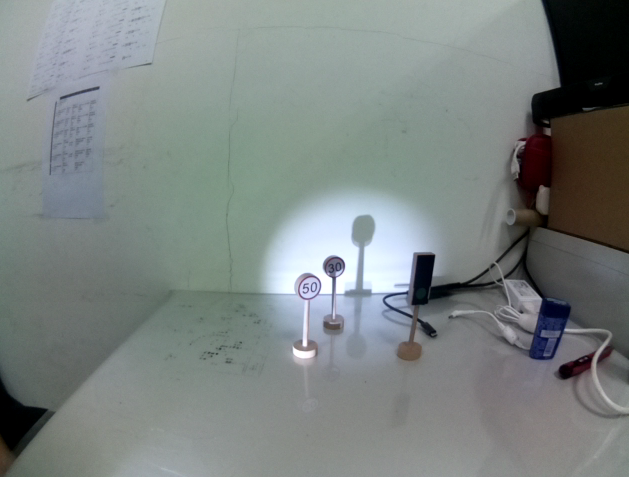Green: (407, 250, 436, 312)
Speed30: (322, 253, 351, 283)
Speed50: (293, 272, 323, 305)
